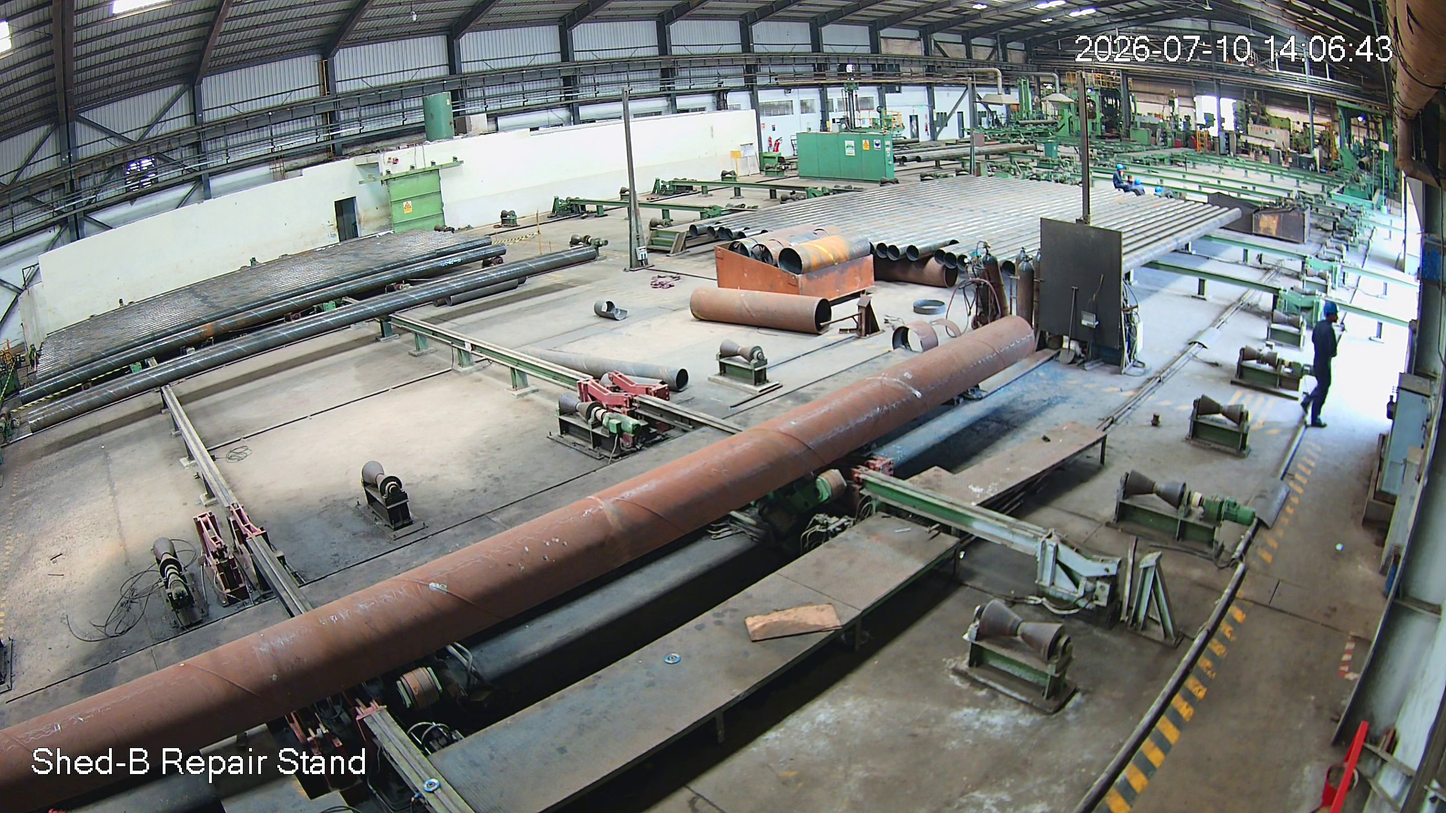Helmet: (1317, 293, 1346, 337)
Person: (1309, 296, 1339, 437)
